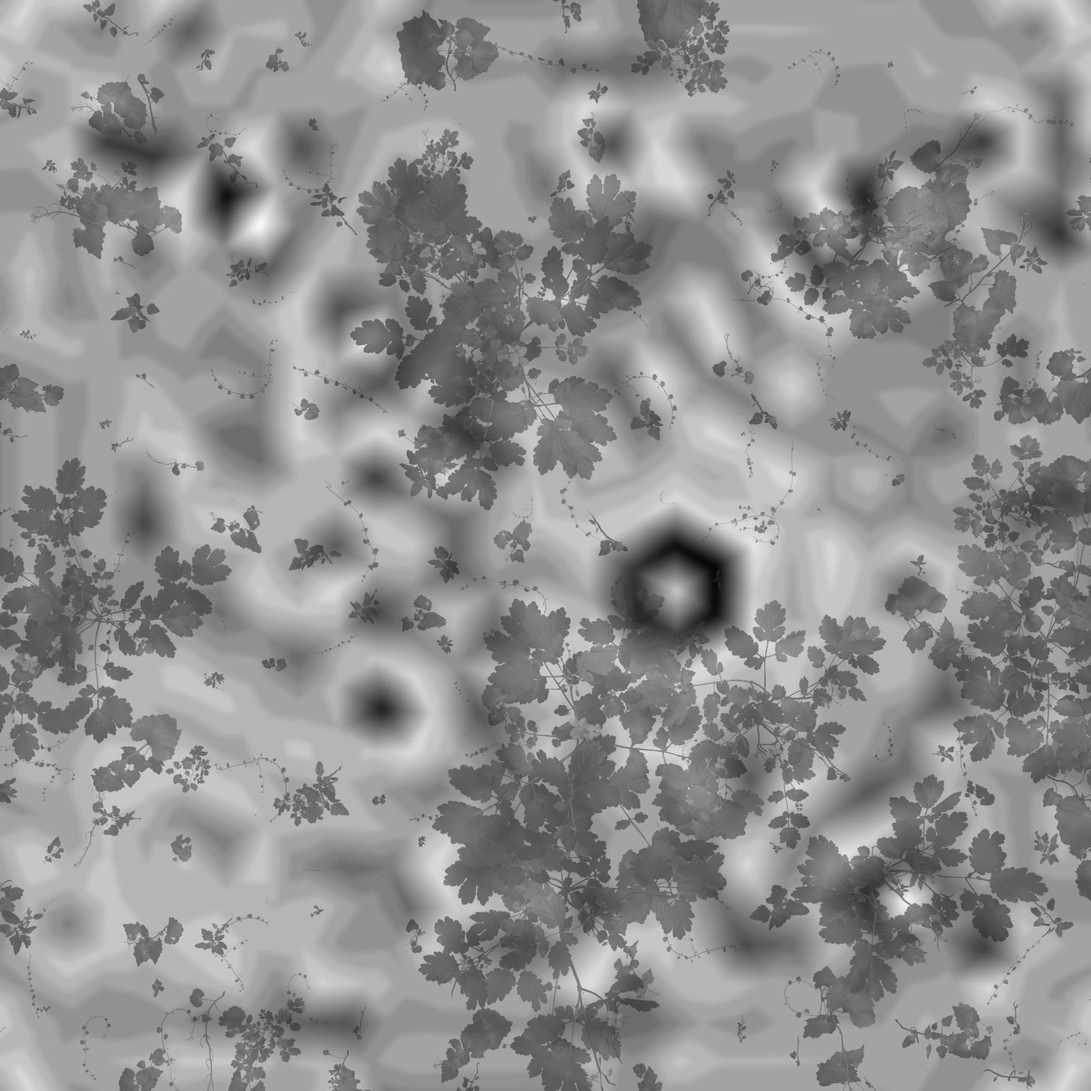landmine: (607, 514, 749, 659)
